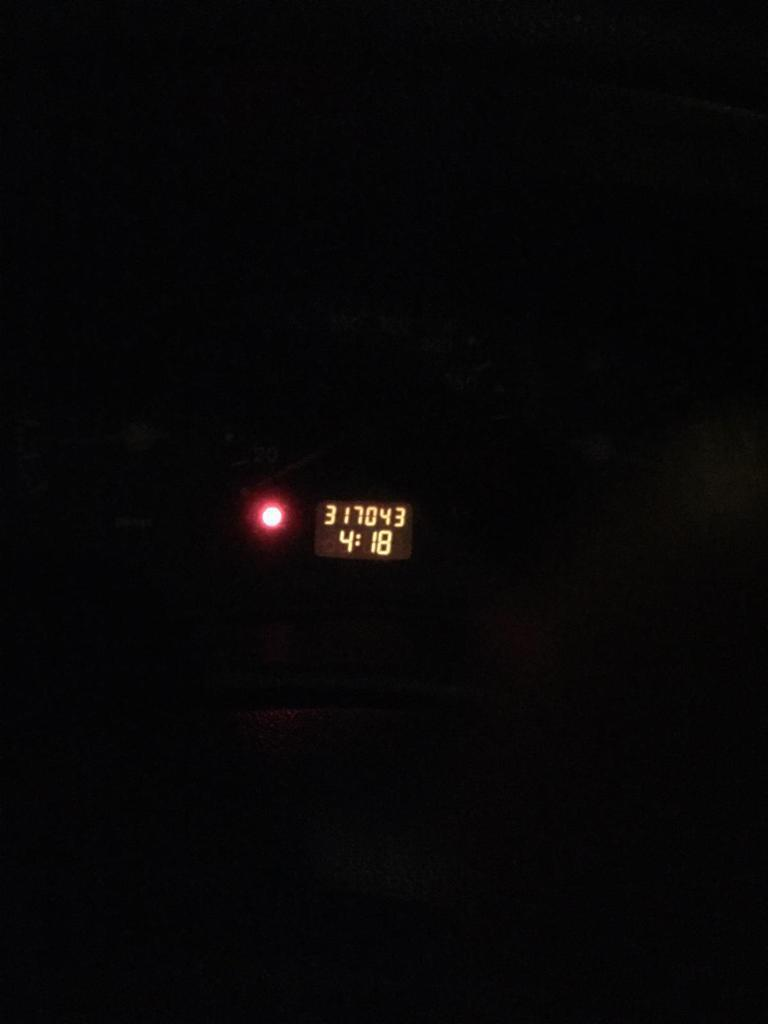0: (364, 505, 377, 527)
1: (366, 529, 377, 554), (341, 505, 351, 524)
3: (322, 503, 338, 526), (392, 505, 406, 528)
4: (336, 528, 354, 554), (378, 506, 392, 526)
7: (352, 504, 364, 525)
8: (377, 529, 392, 555)
X: (354, 532, 362, 547)
odometer: (308, 495, 419, 565)
